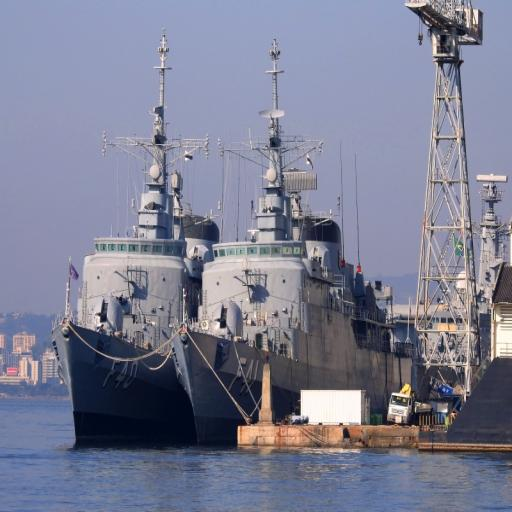Fragata: (166, 30, 416, 453), (50, 28, 228, 457)
